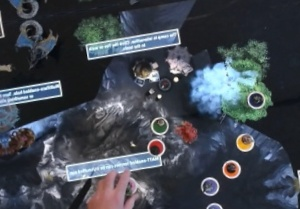green: (146, 113, 171, 136)
orange: (220, 155, 243, 179)
pink: (114, 172, 142, 198)
red: (144, 136, 167, 158)
violet: (198, 172, 223, 198), (246, 87, 268, 109)
yellow: (233, 130, 256, 153)
